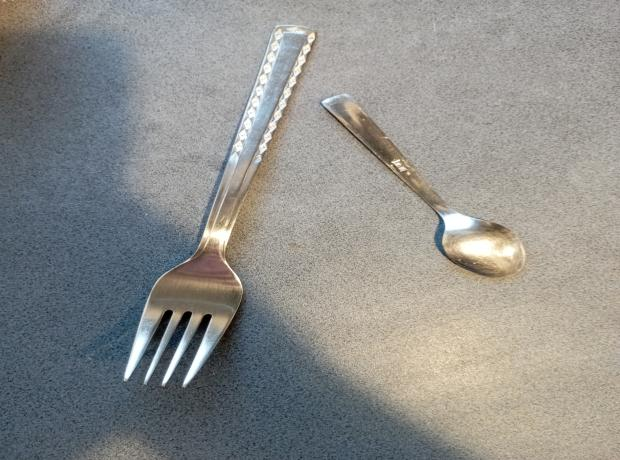metal: (119, 24, 322, 390), (320, 92, 526, 277)
